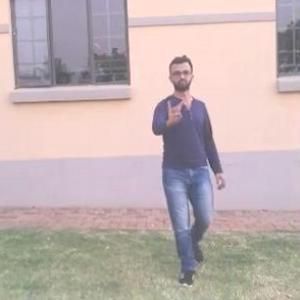takeoff-hand: (158, 97, 188, 130)
